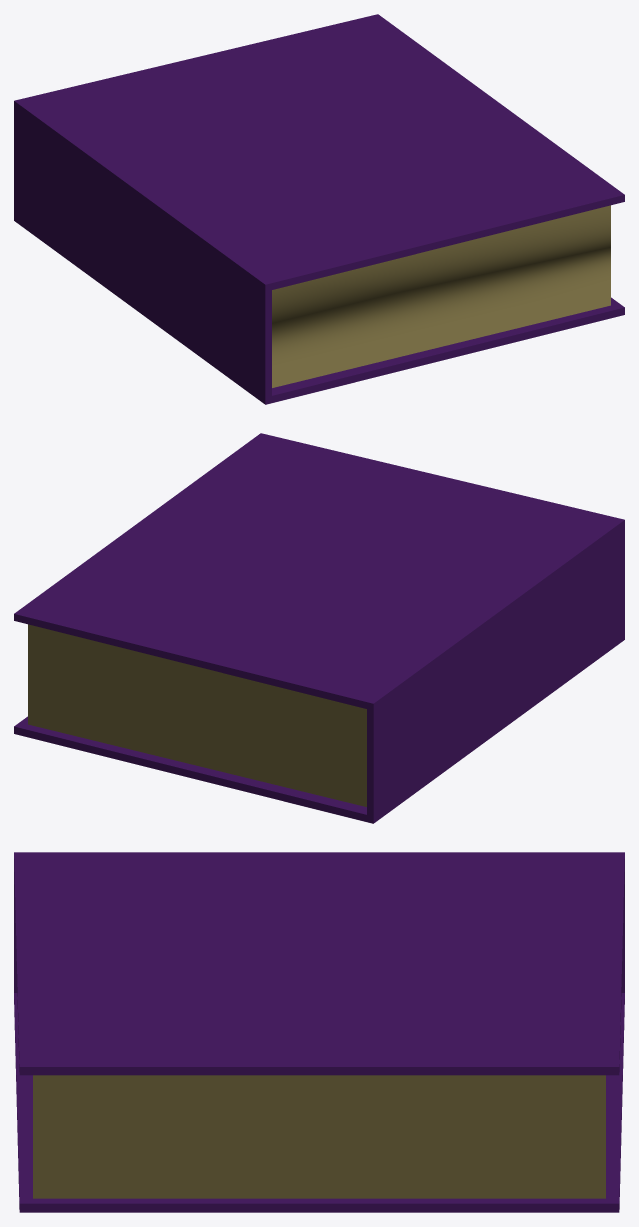
The model's file is Purple Spellbook.fbx.
3 views of the same model, one above another, from view 1: azimuth 30°, elevation 25°; view 2: azimuth 150°, elevation 25°; view 3: azimuth 270°, elevation 25° (orthographic). The views are drawn at different scales.
Visible parts, largest first — view 1: Cube.002; view 2: Cube.002; view 3: Cube.002.
Boxes of the visible parts, x1,y1,x2,y2 form: Cube.002: (14,14,624,404); Cube.002: (14,433,624,823); Cube.002: (14,852,624,1212).
Bounding box in the file's own units: 438 × 139 × 527.
